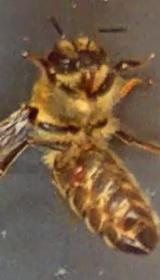varroa_mite: (58, 158, 90, 194)
